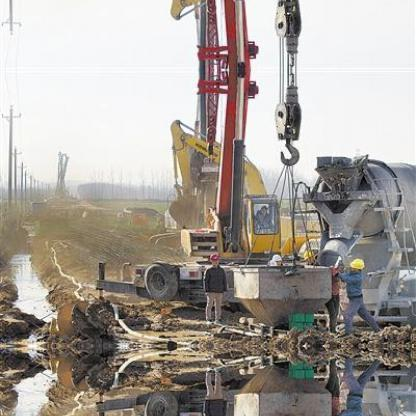helmet: (350, 258, 366, 270), (304, 249, 316, 263), (210, 252, 221, 264)
